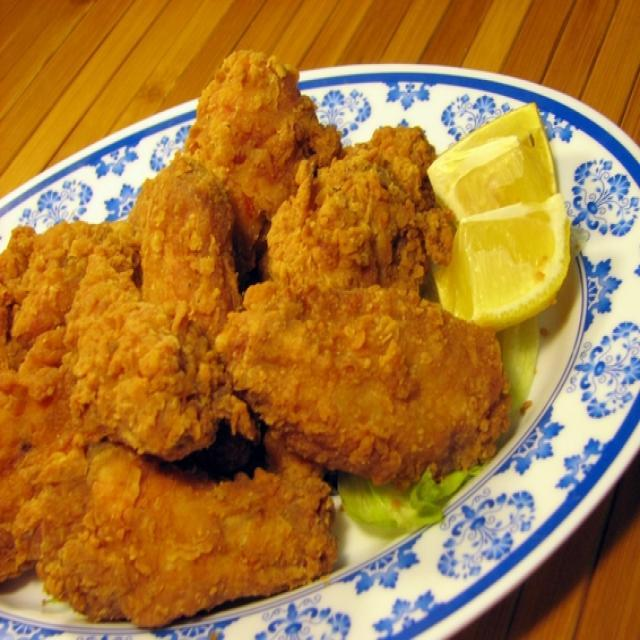Deep fried chicken wing: (1, 73, 463, 597)
